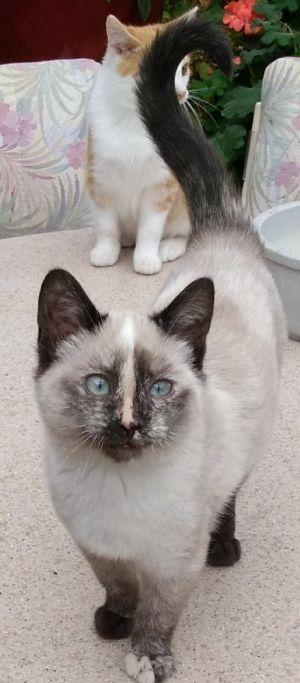siamese: (19, 252, 231, 488)
